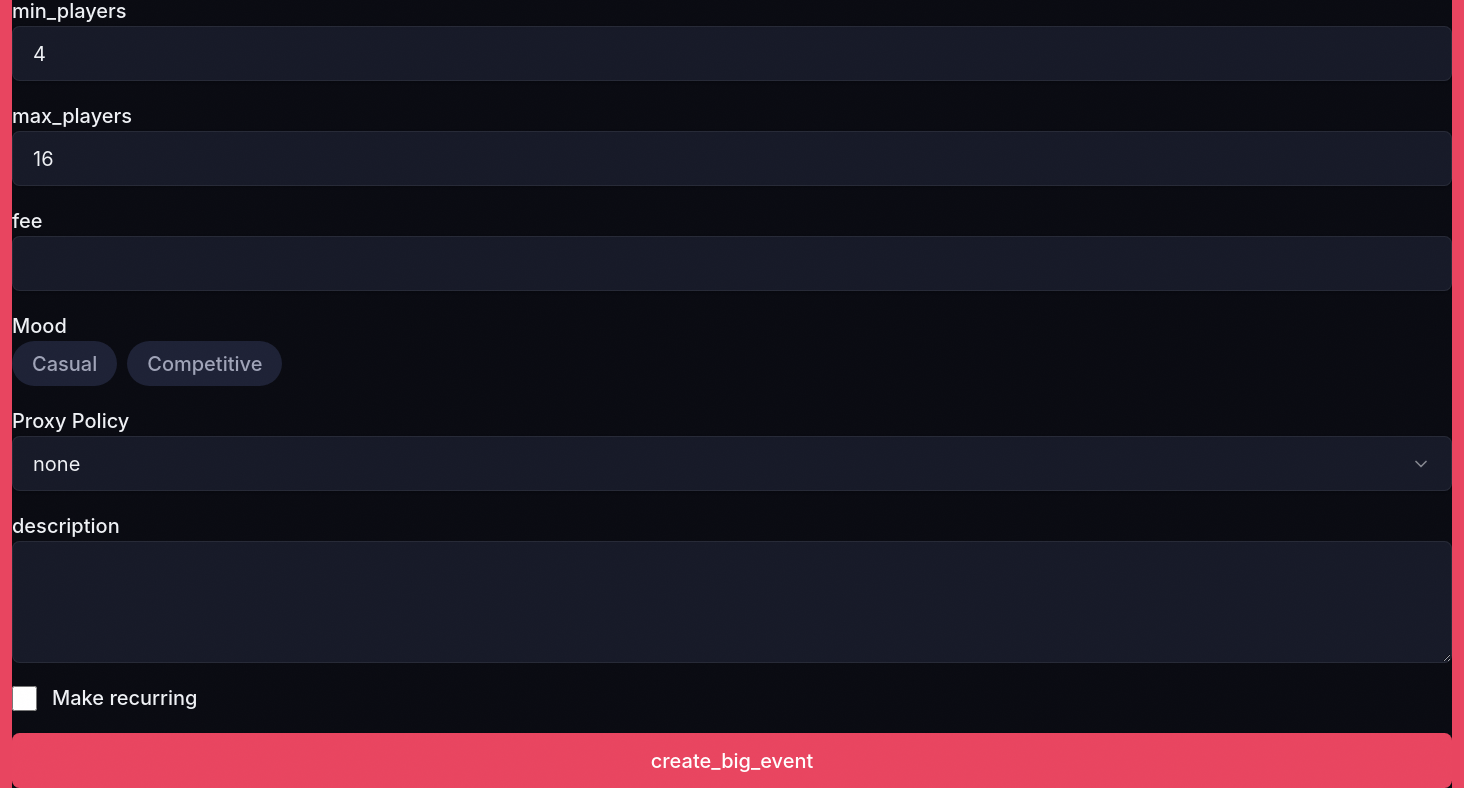
Test case: BigEventForm — comprehensive › recurrence picker › shows day buttons and until date after enabling recurrence
(page scrolled)
Click the checkbox. click: point(24, 698)
box: [12,686,37,710]
(page scrolled)
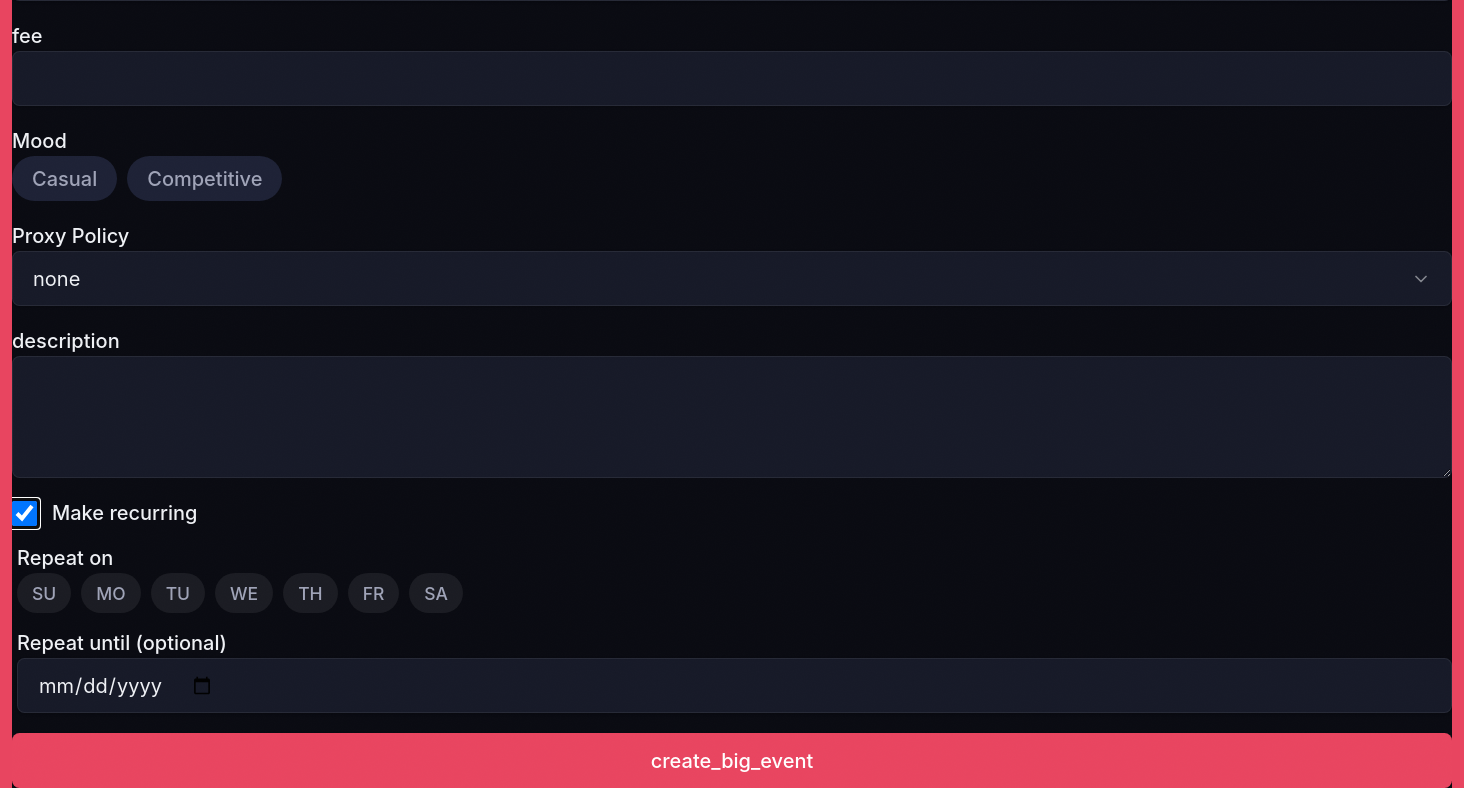
Check: the text "Repeat on" is shown, box [17,546,113,570]
Check: the date field labelled "Repeat until (optional)" is shown, box [17,658,1452,713]
